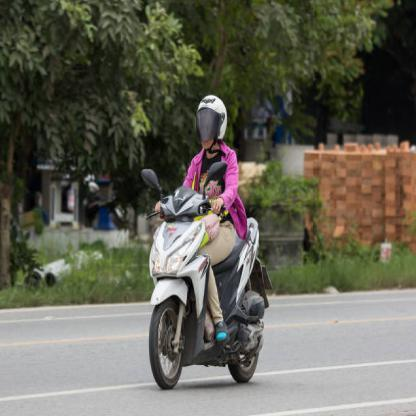Motorcycle: (135, 156, 266, 398)
